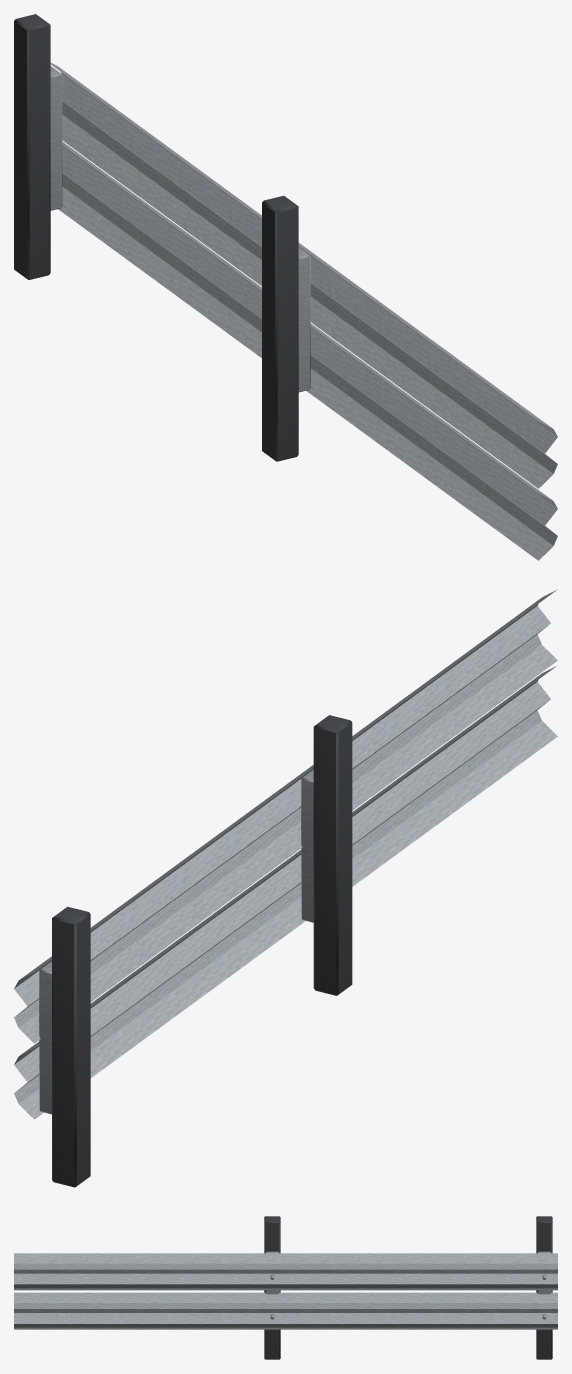
File: armco-two_high.glb
The picture shows the model from 3 angles, top to bottom: view 1: azimuth 30°, elevation 25°; view 2: azimuth 150°, elevation 25°; view 3: azimuth 270°, elevation 25°; orthographic projection. The views are drawn at different scales.
Parts seen in each view (by area): view 1: galvanised-rail, dark-steel, galvanised; view 2: galvanised-rail, dark-steel, galvanised; view 3: galvanised-rail, dark-steel, galvanised.
Part boxes in pixels (box(x1,y1,x2,y2)): galvanised-rail: box(50, 63, 557, 560); dark-steel: box(14, 14, 298, 461); galvanised: box(50, 66, 310, 392); galvanised-rail: box(14, 589, 557, 1119); dark-steel: box(52, 715, 352, 1187); galvanised: box(39, 770, 313, 1114); galvanised-rail: box(14, 1253, 557, 1329); dark-steel: box(264, 1216, 552, 1359); galvanised: box(265, 1251, 551, 1319).
Size of the model in its own units: 0.27 by 1.12 by 4.
Materials: 3 (3 with a texture image).
